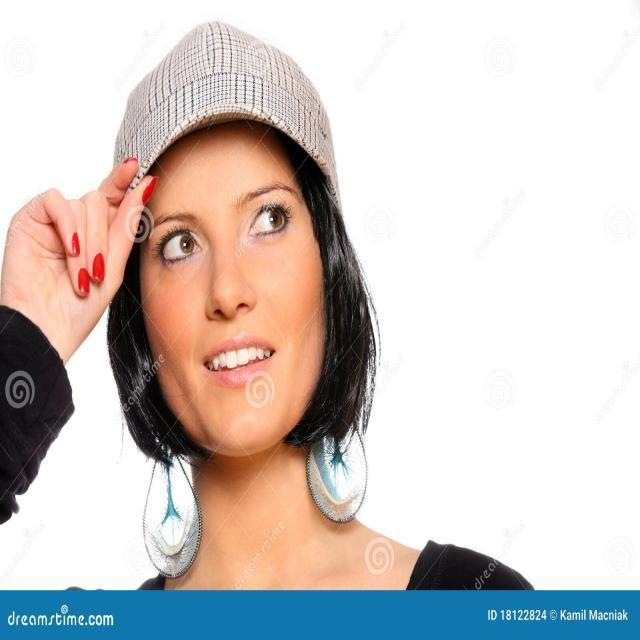hat: (100, 20, 330, 188)
